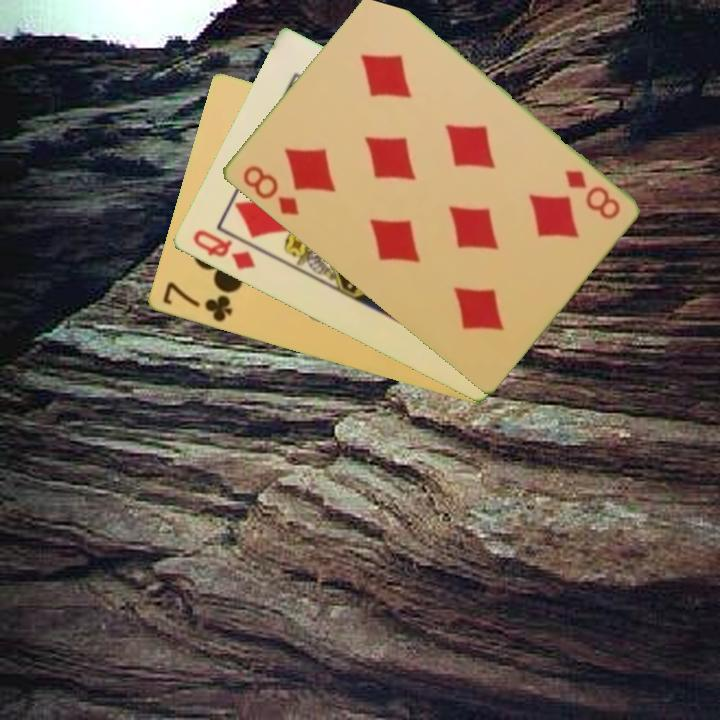7c: (158, 278, 235, 326)
8d: (238, 161, 302, 219), (560, 166, 623, 223)
Qd: (188, 226, 258, 273)
